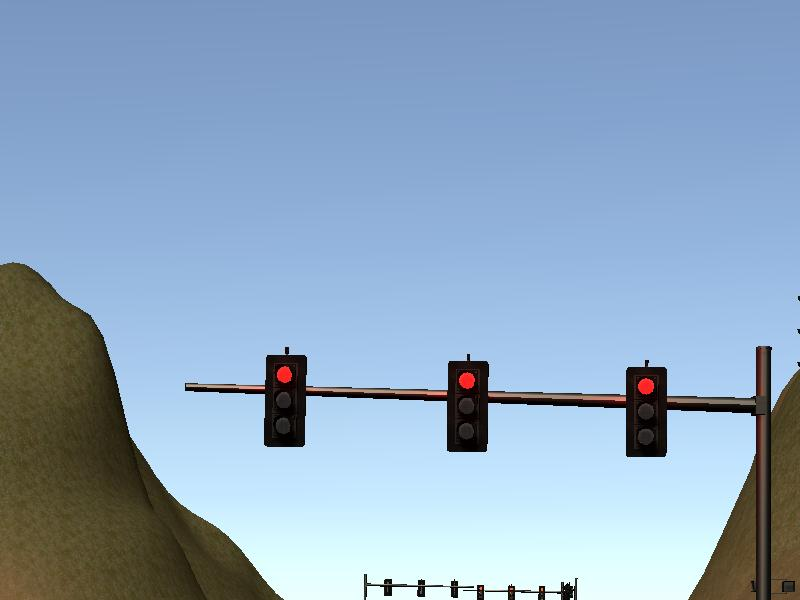Red: (266, 353, 305, 446), (625, 368, 666, 455), (448, 359, 487, 450)
